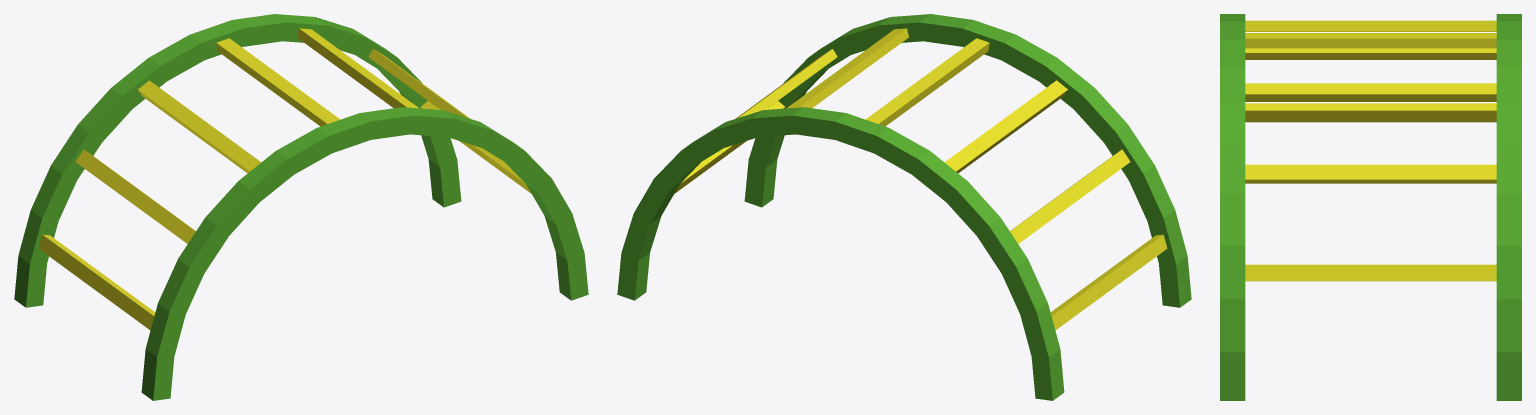
File: bar.glb
3 views of the same model, side by side, from view 1: azimuth 30°, elevation 25°; view 2: azimuth 150°, elevation 25°; view 3: azimuth 270°, elevation 25° (orthographic). The views are drawn at different scales.
Parts seen in each view (by area): view 1: Circle.005; view 2: Circle.005; view 3: Circle.005.
Boxes of the visible parts, x1,y1,x2,y2 form: Circle.005: (14,14,588,400); Circle.005: (617,14,1191,400); Circle.005: (1220,14,1521,400).
Size of the model in its own units: 0.8477 by 0.4242 by 0.468.
